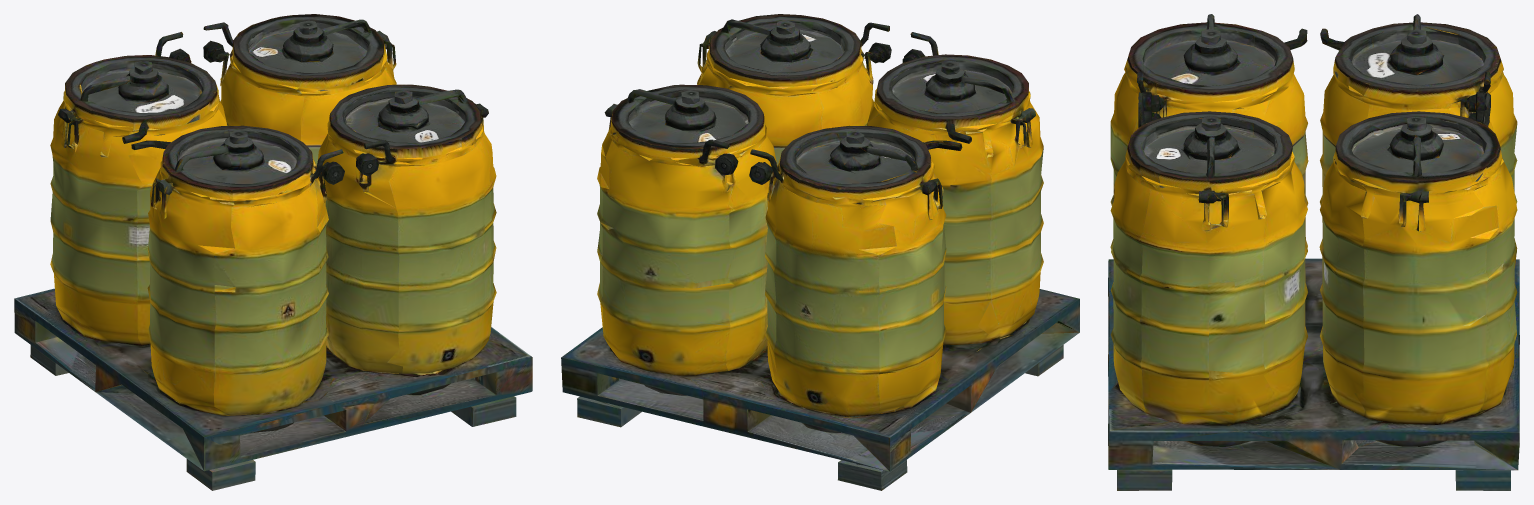
The model's file is Meshy_AI_Chemical_Drum_Cluster_balanced.glb.
3 views of the same model, side by side, from view 1: azimuth 30°, elevation 25°; view 2: azimuth 150°, elevation 25°; view 3: azimuth 270°, elevation 25° (orthographic). The views are drawn at different scales.
Bounding box in the file's own units: 1.9 × 1.7 × 1.9.
1 material, 1 textured.
